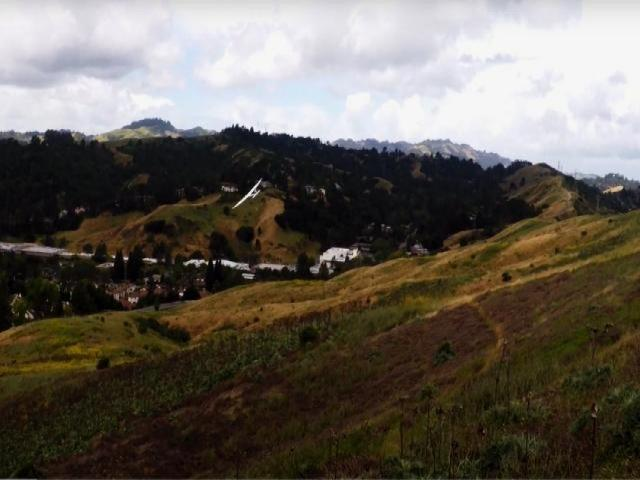iha: (233, 178, 262, 210)
